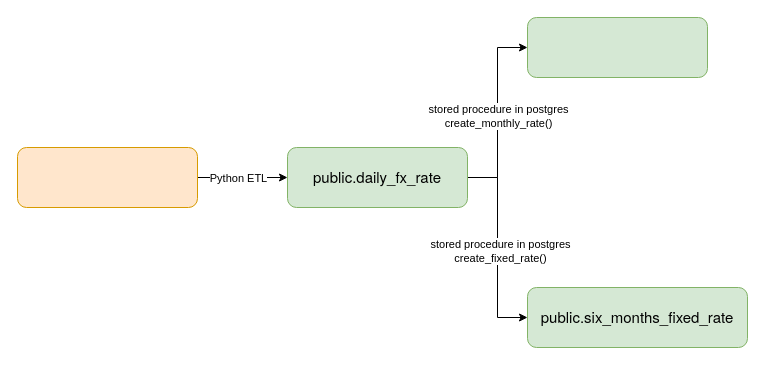
Image size: 765x365. Some labels were removed from this diagram. Each missing label, with the centre of its shape:
"exchangeratesapi.io" goes at point 107,177.
"public.monthly_fx_rate" goes at point 617,47.
